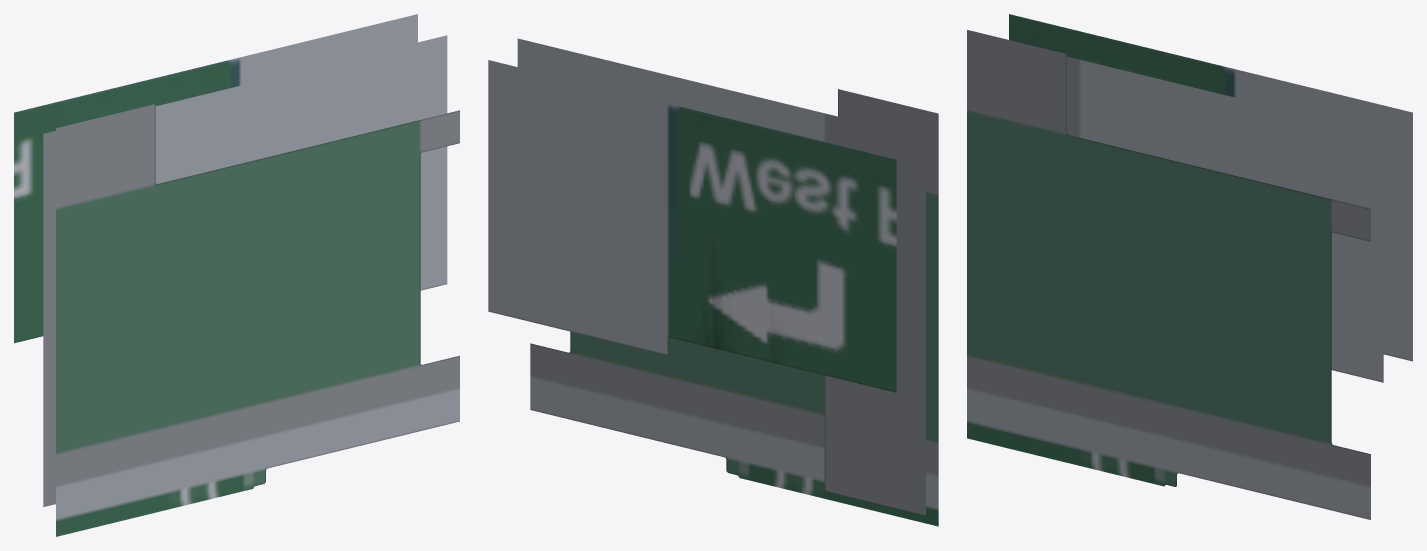
File: section-1.obj
The picture shows the model from 3 angles, left to right: view 1: azimuth 30°, elevation 25°; view 2: azimuth 150°, elevation 25°; view 3: azimuth 330°, elevation 25°; orthographic projection.
Size of the model in its own units: 1 by 0.9665 by 0.1792.
